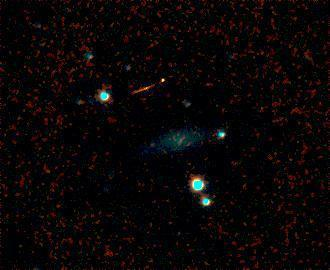star: (133, 127, 163, 157)
